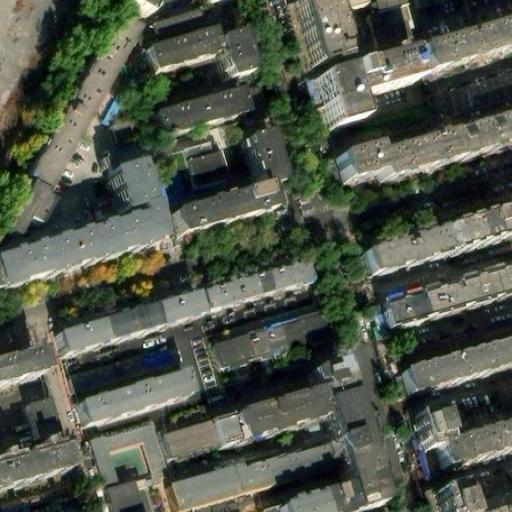building: (0, 165, 158, 286), (35, 14, 142, 180), (173, 438, 353, 509), (337, 119, 512, 186), (356, 198, 512, 272), (61, 293, 206, 356), (375, 261, 512, 327), (313, 62, 411, 144), (212, 307, 339, 369), (333, 380, 396, 500), (407, 410, 512, 473), (396, 342, 512, 396), (87, 366, 200, 421), (199, 264, 315, 316), (410, 31, 512, 89), (167, 185, 273, 240), (152, 23, 261, 75), (80, 345, 183, 396), (157, 83, 254, 134), (164, 121, 229, 193), (249, 381, 339, 433), (95, 424, 165, 488), (0, 441, 75, 496), (164, 412, 247, 457), (292, 0, 351, 63), (449, 68, 512, 110), (291, 478, 364, 512), (103, 74, 145, 128), (0, 340, 52, 380), (240, 133, 277, 188), (25, 397, 62, 444), (109, 477, 157, 512), (152, 6, 207, 33), (473, 481, 512, 512), (434, 483, 465, 512), (261, 497, 295, 512)
